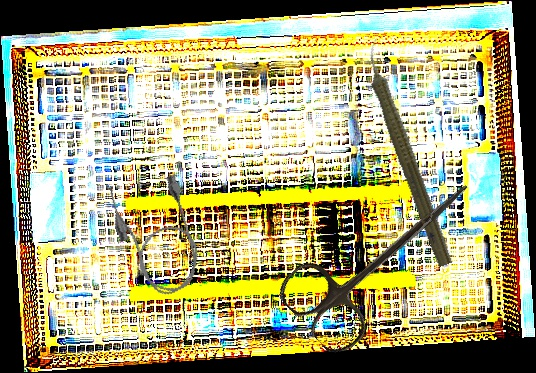Cannula: (102, 166, 211, 304)
Handpiece: (354, 37, 462, 269)
Iris Scissors: (272, 146, 496, 362)
